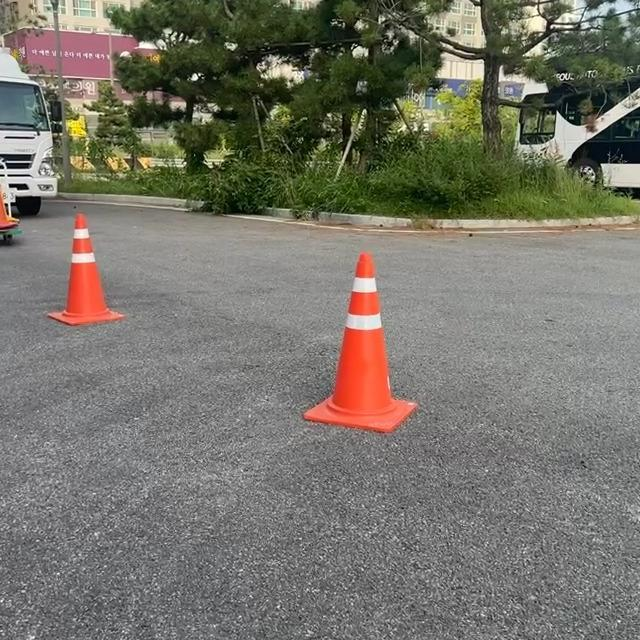fallen_object: (209, 226, 433, 433), (19, 187, 155, 383)
